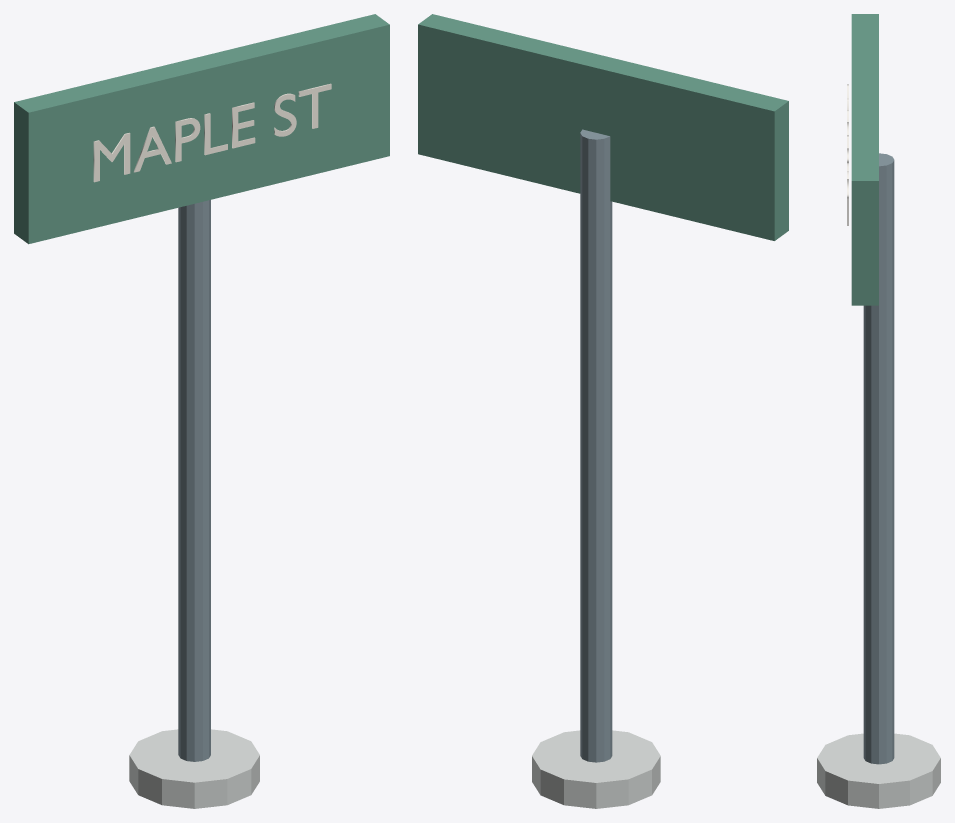
Rendered from street_name.glb.
3 renders of one model, left to right at view 1: azimuth 30°, elevation 25°; view 2: azimuth 150°, elevation 25°; view 3: azimuth 270°, elevation 25°, orthographic. The views are drawn at different scales.
Parts seen in each view (by area): view 1: street_name_002, street_name_000, street_name_001, street_name_003; view 2: street_name_002, street_name_000, street_name_001; view 3: street_name_000, street_name_002, street_name_001, street_name_003.
Part boxes in pixels (left/top/right/bottom): street_name_002: left=14, top=14, right=389, bottom=244; street_name_000: left=178, top=200, right=210, bottom=761; street_name_001: left=129, top=729, right=259, bottom=808; street_name_003: left=93, top=83, right=331, bottom=182; street_name_002: left=418, top=14, right=788, bottom=240; street_name_000: left=580, top=129, right=612, bottom=762; street_name_001: left=532, top=730, right=660, bottom=808; street_name_000: left=863, top=153, right=894, bottom=764; street_name_002: left=851, top=14, right=878, bottom=305; street_name_001: left=817, top=733, right=940, bottom=808; street_name_003: left=847, top=84, right=848, bottom=225.
Size of the model in its own units: 1.15 by 2.2 by 0.36.
